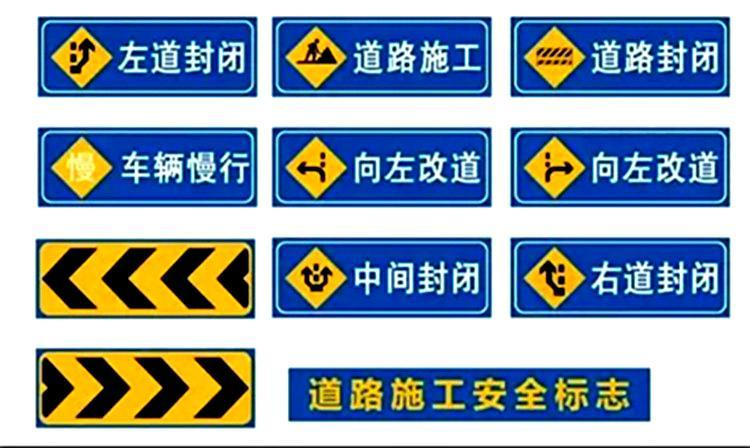sign: (40, 350, 252, 427), (511, 18, 727, 93), (275, 241, 488, 317), (516, 242, 731, 317), (275, 18, 489, 93), (513, 129, 727, 203), (39, 22, 254, 95), (38, 241, 251, 314), (275, 130, 489, 202), (40, 131, 253, 203)
